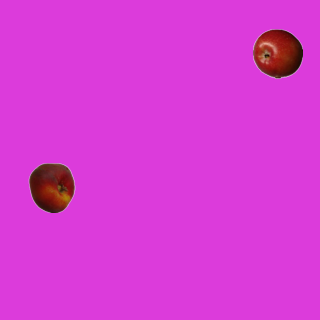Apple Braeburn: (252, 28, 302, 78)
Nectarine Flat: (26, 162, 76, 212)
